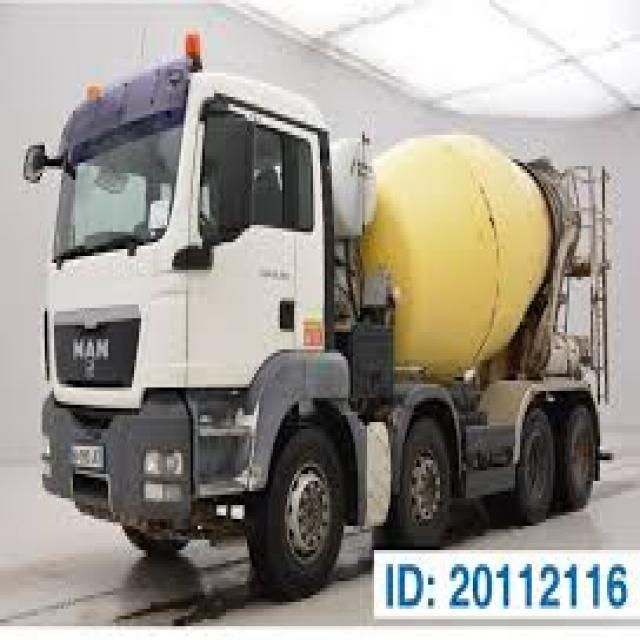Mixer Truck: (23, 31, 611, 596)
